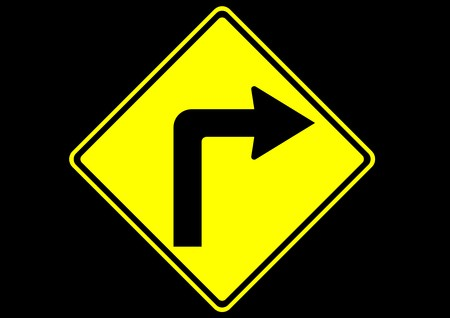right: (66, 3, 379, 315)
